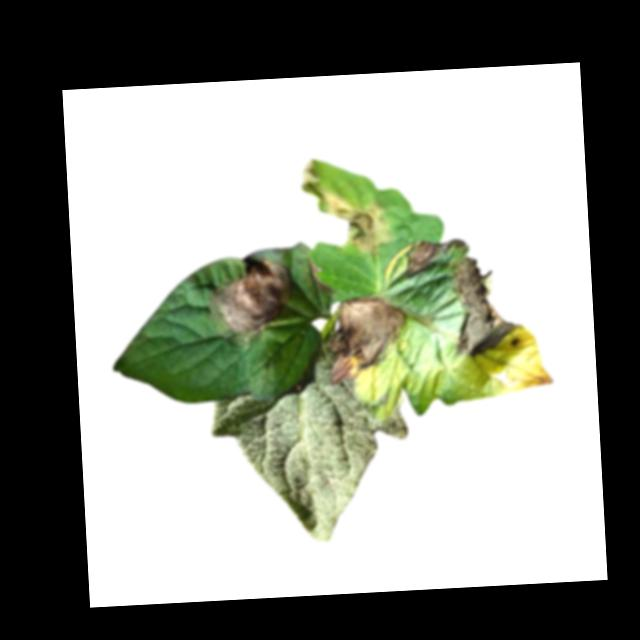Late_blight: (297, 153, 394, 262), (208, 257, 300, 348), (450, 254, 525, 360), (329, 295, 414, 385), (403, 236, 468, 280), (309, 259, 332, 297)
